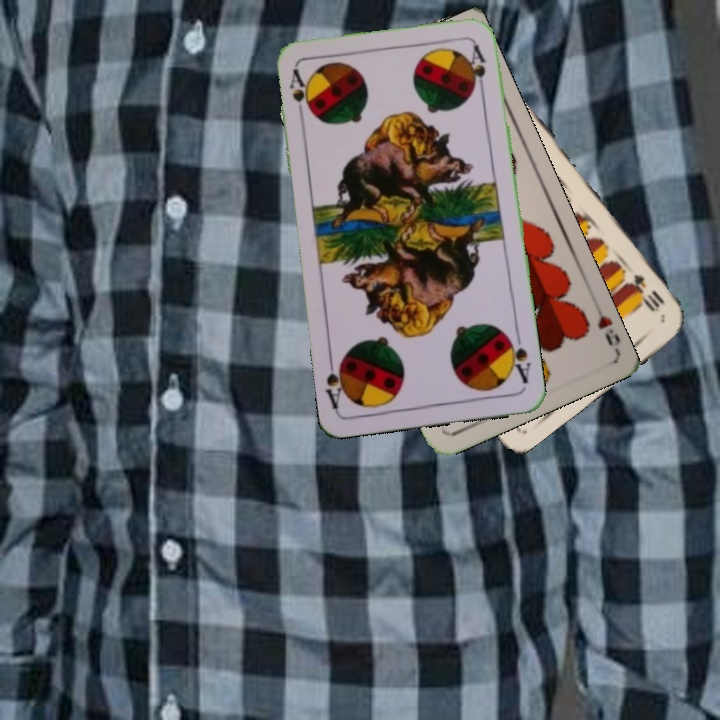E10: (623, 270, 667, 315)
H9: (593, 311, 622, 348)
SA: (502, 329, 533, 387), (285, 65, 313, 124)
